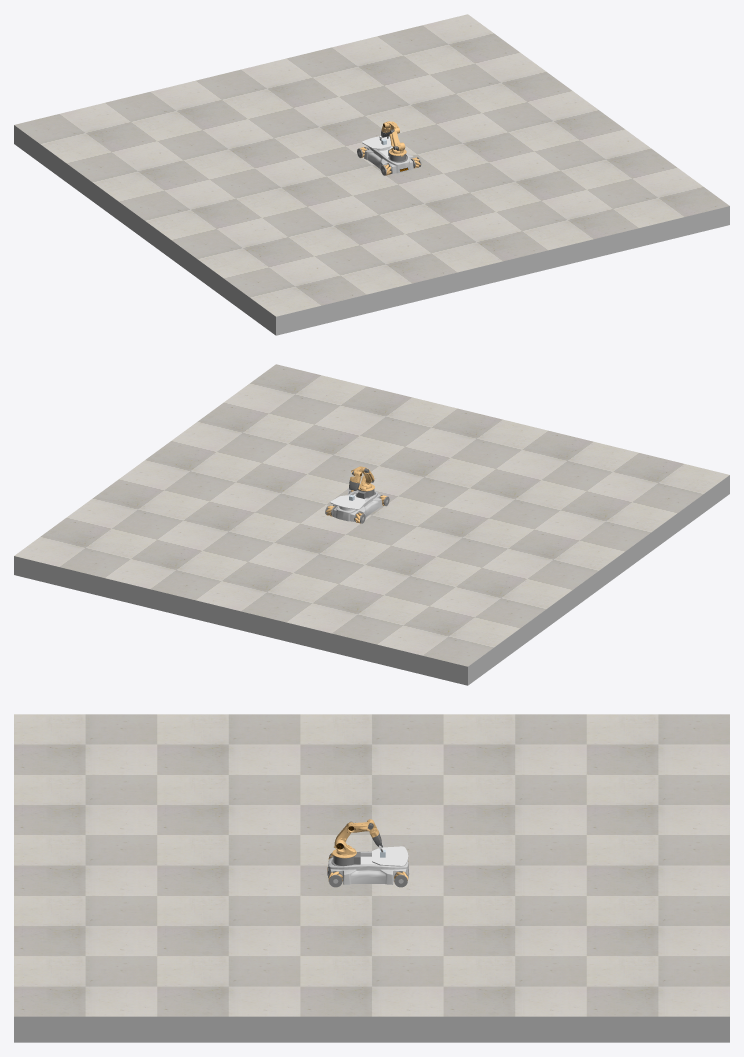
The model's file is youbot.gltf.
The picture shows the model from 3 angles, top to bottom: view 1: azimuth 30°, elevation 25°; view 2: azimuth 150°, elevation 25°; view 3: azimuth 270°, elevation 25°; orthographic projection. The views are drawn at different scales.
Parts seen in each view (by area): view 1: box__194__, box__195__, sub__0__197__; view 2: box__194__, box__195__, sub__0__197__; view 3: box__194__, box__195__, sub__0__197__, ME_Platfo2_sub1__196__.
Part boxes in pixels (box(x1,y1,x2,y2)): box__194__: box(14, 14, 729, 316); box__195__: box(14, 125, 729, 335); sub__0__197__: box(364, 146, 413, 173); box__194__: box(14, 364, 729, 666); box__195__: box(14, 475, 729, 685); sub__0__197__: box(333, 491, 382, 521); box__194__: box(14, 714, 729, 1016); box__195__: box(14, 1016, 729, 1042); sub__0__197__: box(327, 851, 409, 884); ME_Platfo2_sub1__196__: box(360, 846, 408, 866).
Size of the model in its own units: 5 by 0.6275 by 5.
Materials: 36 (5 with a texture image).
